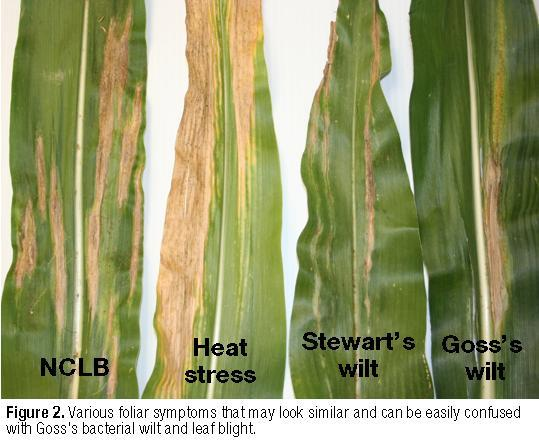Corn leaf blight: (10, 2, 146, 351), (154, 2, 290, 335), (293, 1, 426, 329), (409, 1, 539, 333)
